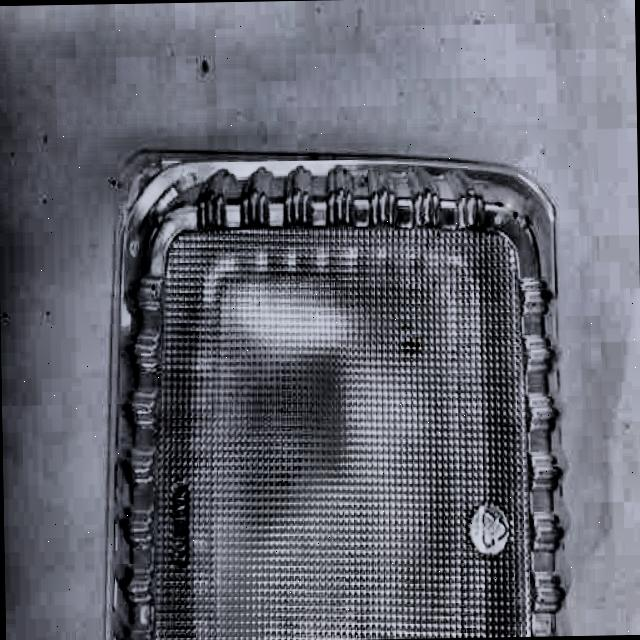plastic: (93, 155, 566, 640)
